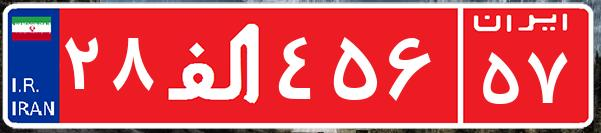2: (57, 26, 110, 107)
4: (273, 28, 330, 110)
5: (330, 28, 385, 110), (475, 38, 525, 113)
6: (385, 28, 445, 110)
7: (525, 38, 570, 115)
8: (110, 28, 158, 105)
الف: (158, 15, 273, 115)
